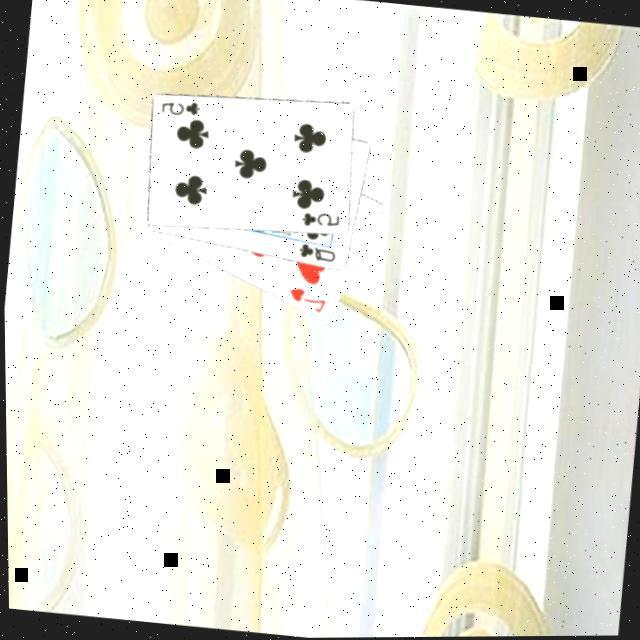5C: (299, 208, 345, 232), (160, 96, 206, 120)
7H: (285, 283, 330, 315)
QC: (296, 239, 340, 265)
